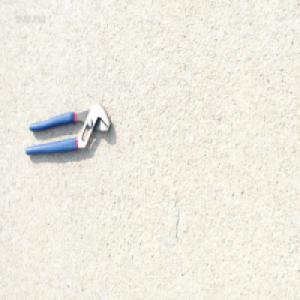Pliers: (24, 102, 112, 157)
